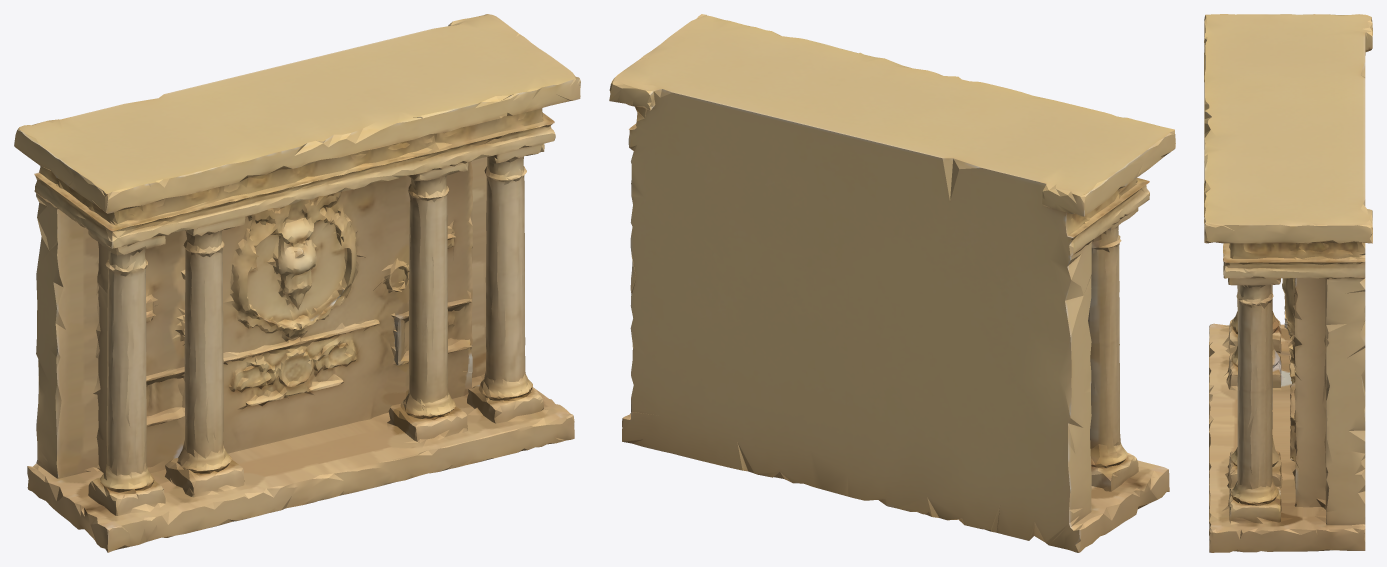
File: temple_wall_segment.glb
3 renders of one model, left to right at view 1: azimuth 30°, elevation 25°; view 2: azimuth 150°, elevation 25°; view 3: azimuth 270°, elevation 25°, orthographic. The views are drawn at different scales.
Visible parts, largest first — view 1: temple_wall_segment; view 2: temple_wall_segment; view 3: temple_wall_segment.
Part boxes in pixels (x1=…): temple_wall_segment: x1=14, y1=14, x2=580, y2=552; temple_wall_segment: x1=609, y1=14, x2=1175, y2=552; temple_wall_segment: x1=1204, y1=14, x2=1372, y2=552.
Size of the model in its own units: 1.9 by 1.38 by 0.6416.
1 material, 1 textured.
